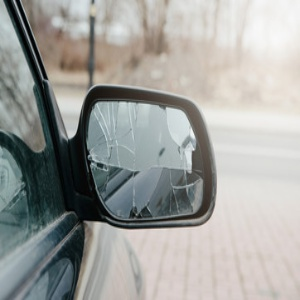side_mirror: (75, 81, 220, 233)
